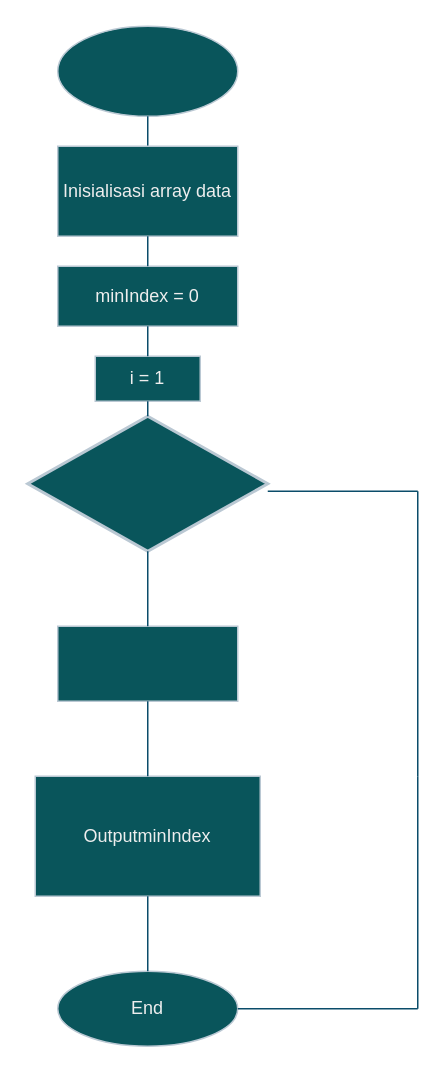
The diagram is 446 pixels wide and 1073 high, and some of its shapes have lost their labels. The shapes that lost their labels are listed below. From the top down, each one's box as (x1, y1, x2, y2) in pixels, then its label:
(56, 25, 238, 116): Start
(26, 414, 268, 552): if i < panjang array?
(56, 625, 238, 701): minIndex = i
